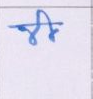i_matra: (39, 10, 58, 40)
